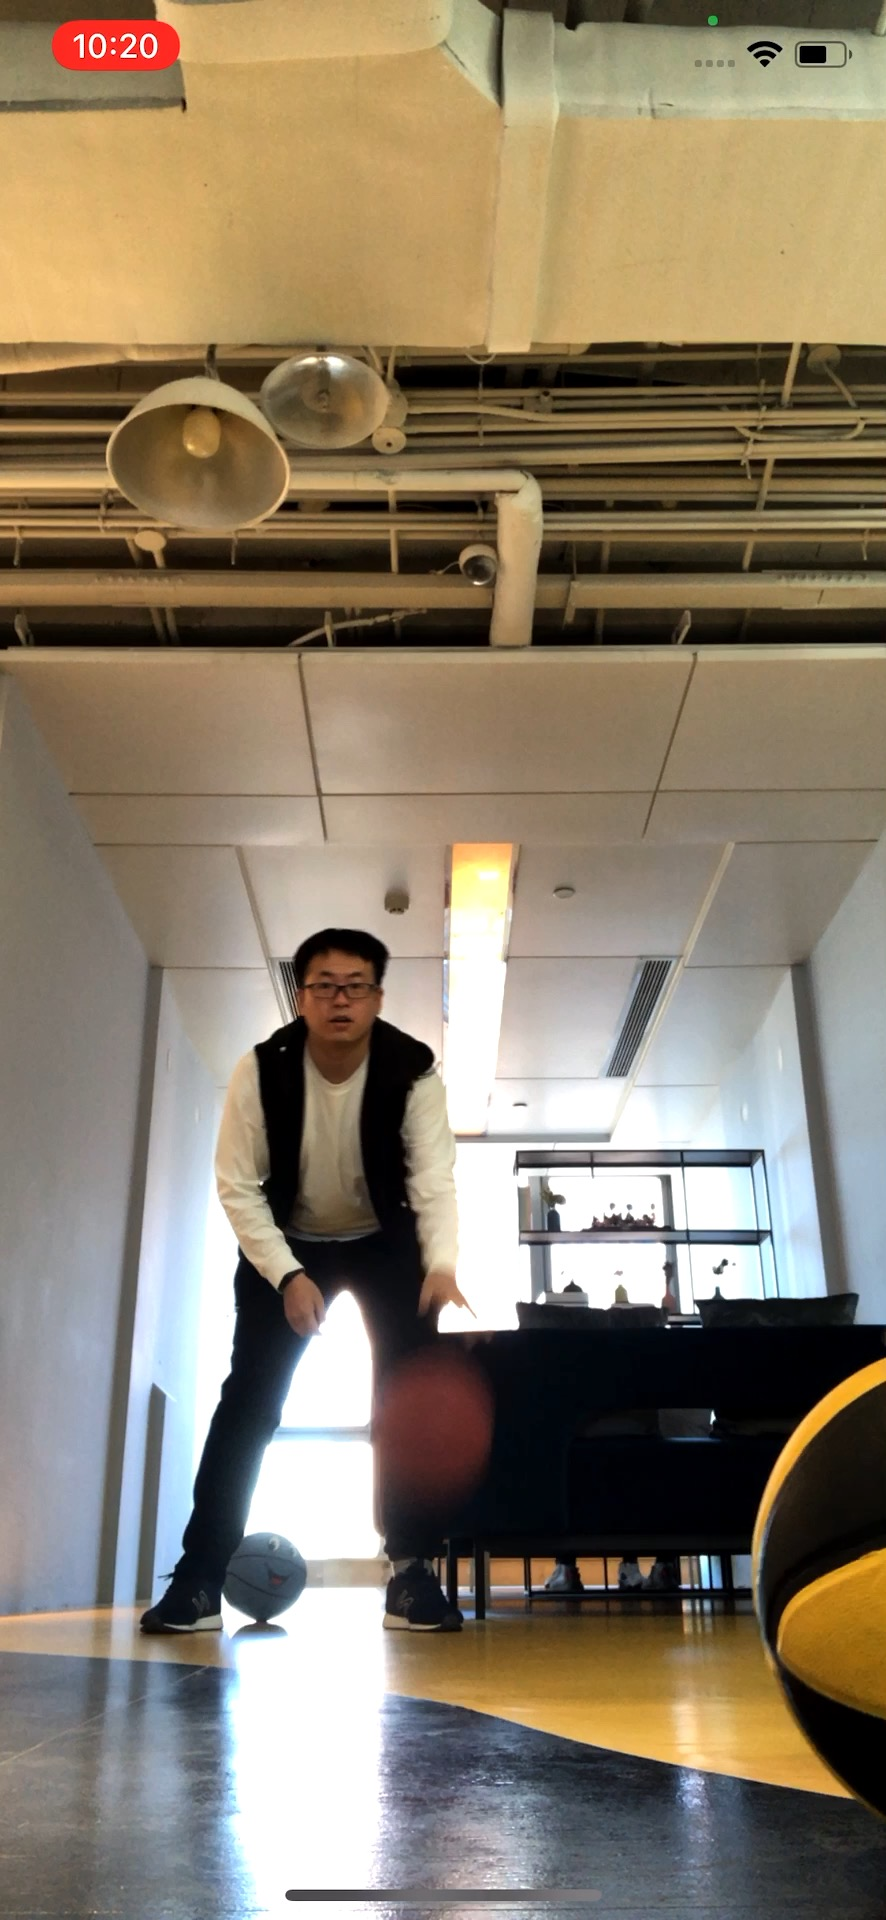ball: (743, 1349, 886, 1827), (370, 1371, 496, 1490), (225, 1531, 308, 1622)
